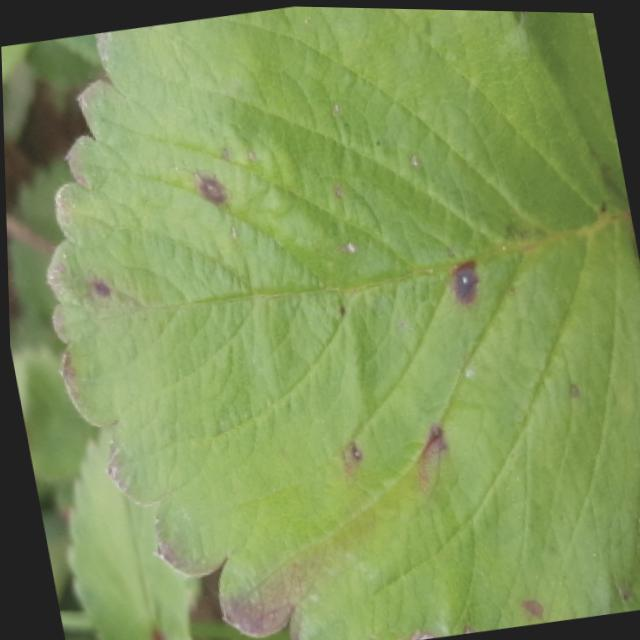Leaf Spot: (42, 5, 640, 640), (60, 423, 204, 640), (516, 9, 630, 214), (609, 502, 640, 611)
